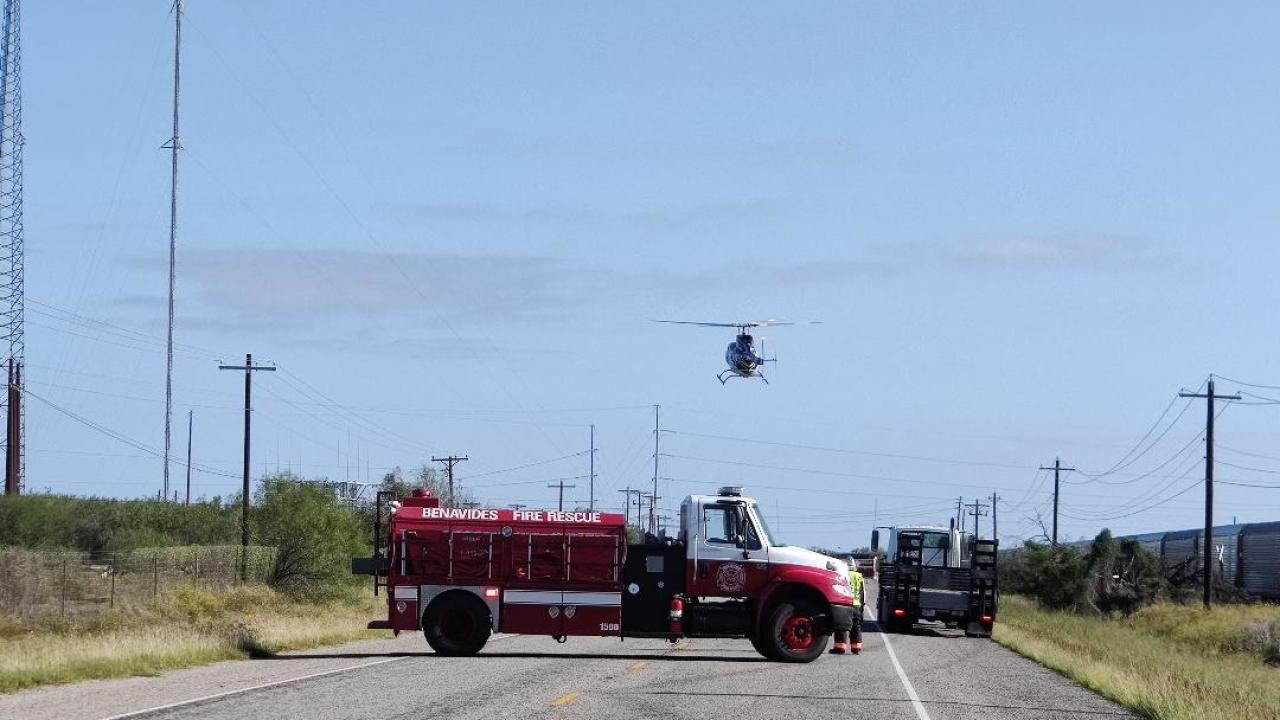Helicopter: (651, 306, 836, 393)
